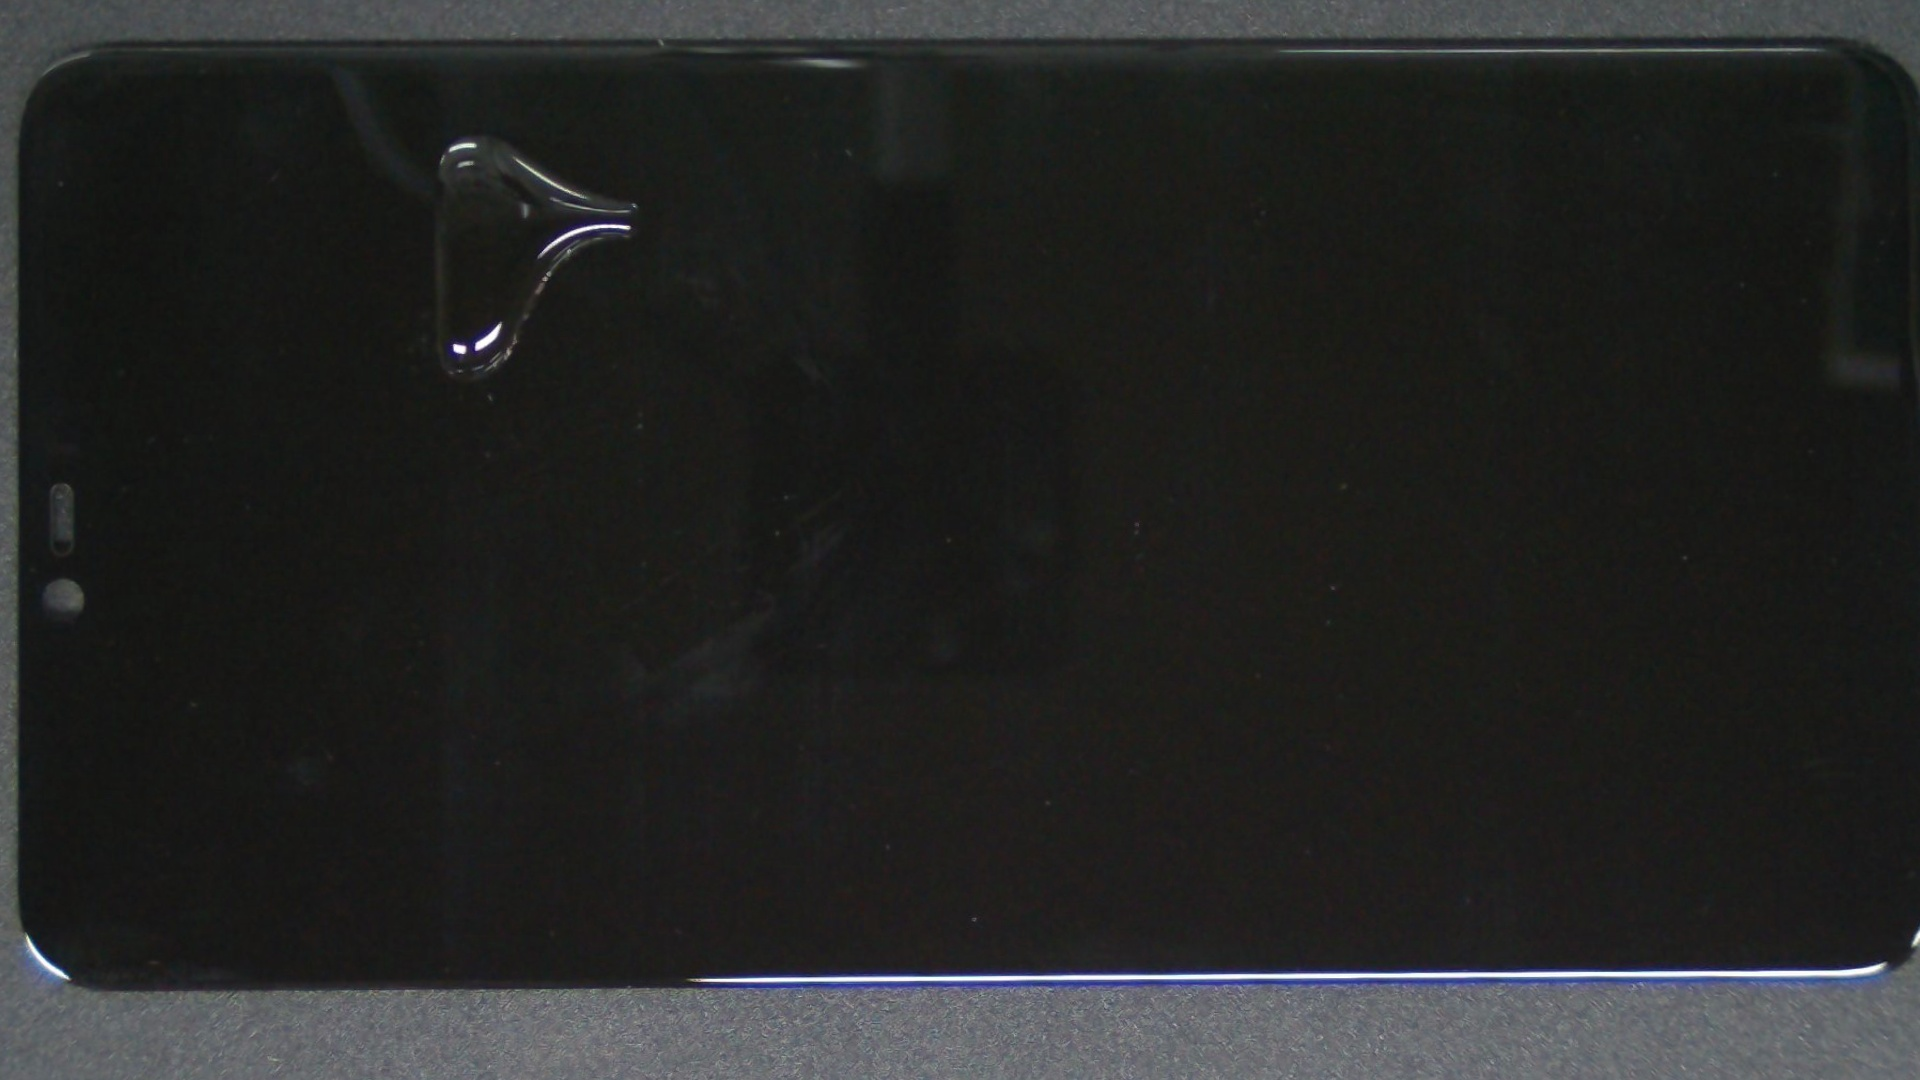oil: (212, 25, 745, 243)
